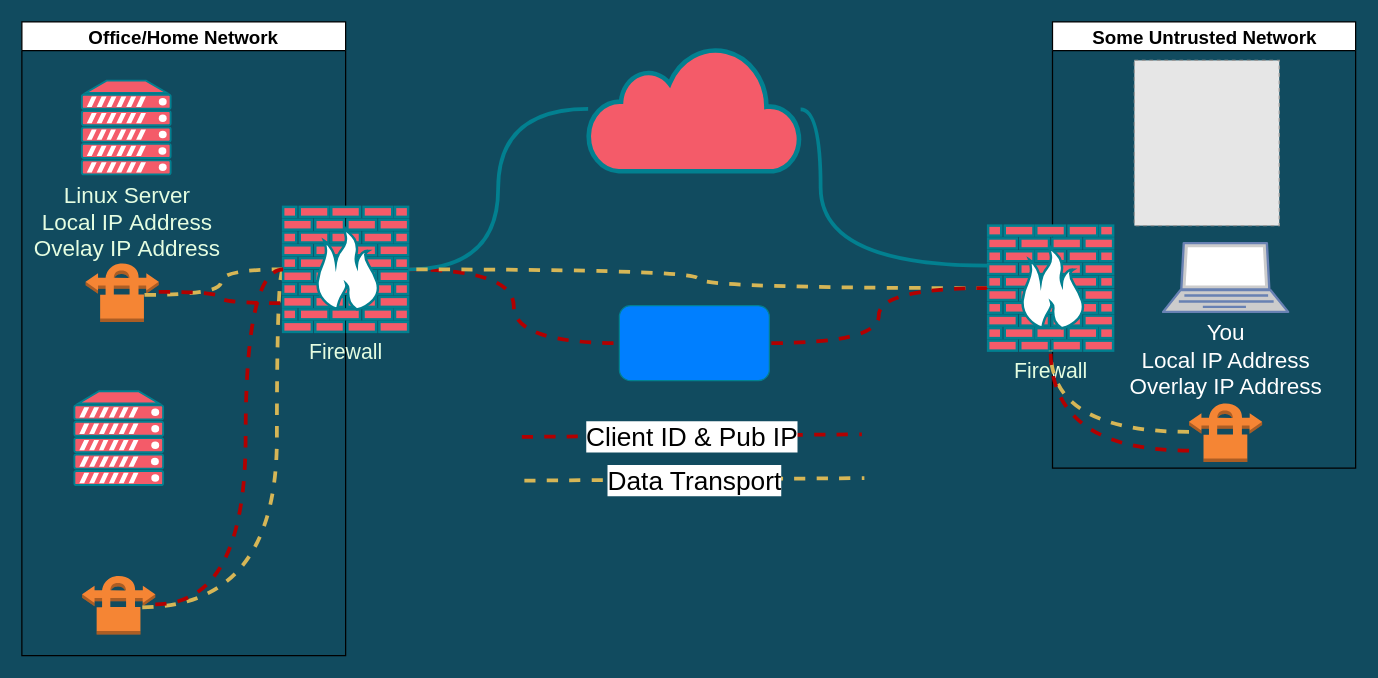
Image size: 1378x678. Some labels were removed from this diagram. Grey dashed boxes stand in for pictures. The centre of each missing label's shape, as x and y in pixels:
"Coordination Server" belongs at point (693, 342).
"The Internet" belongs at point (693, 108).
"Windows Server Local IP Address Ovelay IP Address" belongs at point (118, 437).
